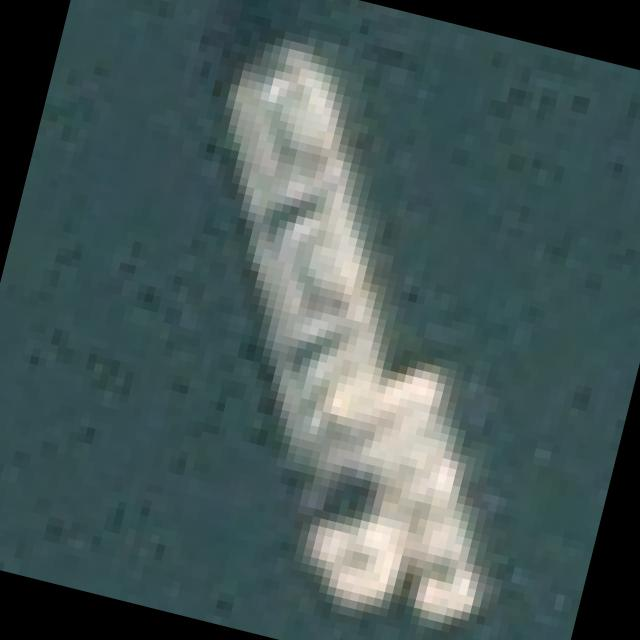ship: (90, 6, 631, 640)
